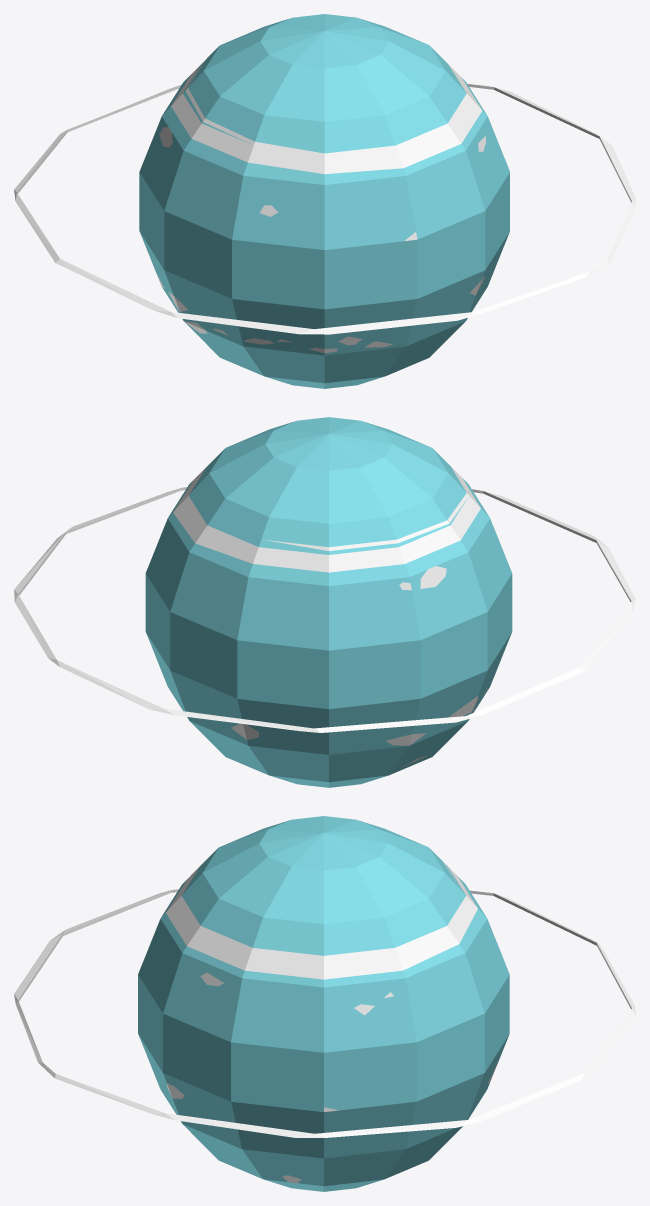
Rendered from Uranus_lowPloy.glb.
3 renders of one model, top to bottom at view 1: azimuth 30°, elevation 25°; view 2: azimuth 150°, elevation 25°; view 3: azimuth 270°, elevation 25°, orthographic.
Parts seen in each view (by area): view 1: group646701568, group2013386449; view 2: group646701568, group2013386449; view 3: group646701568, group2013386449.
Boxes of the visible parts, x1,y1,x2,y2 form: group646701568: (139,14,509,388); group2013386449: (14,83,635,334); group646701568: (145,417,512,787); group2013386449: (14,487,635,732); group646701568: (138,816,509,1191); group2013386449: (14,889,635,1137).
Size of the model in its own units: 2.29 by 1.39 by 2.29.
